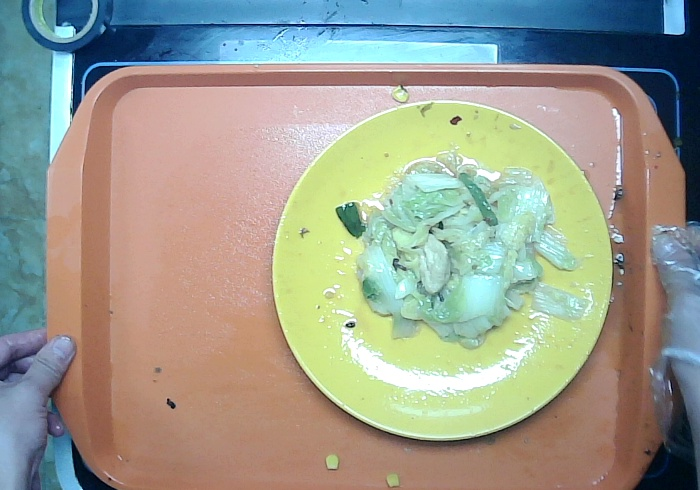HZYJPL-Huang_Se_Yuan_Pan: (273, 98, 614, 447)
